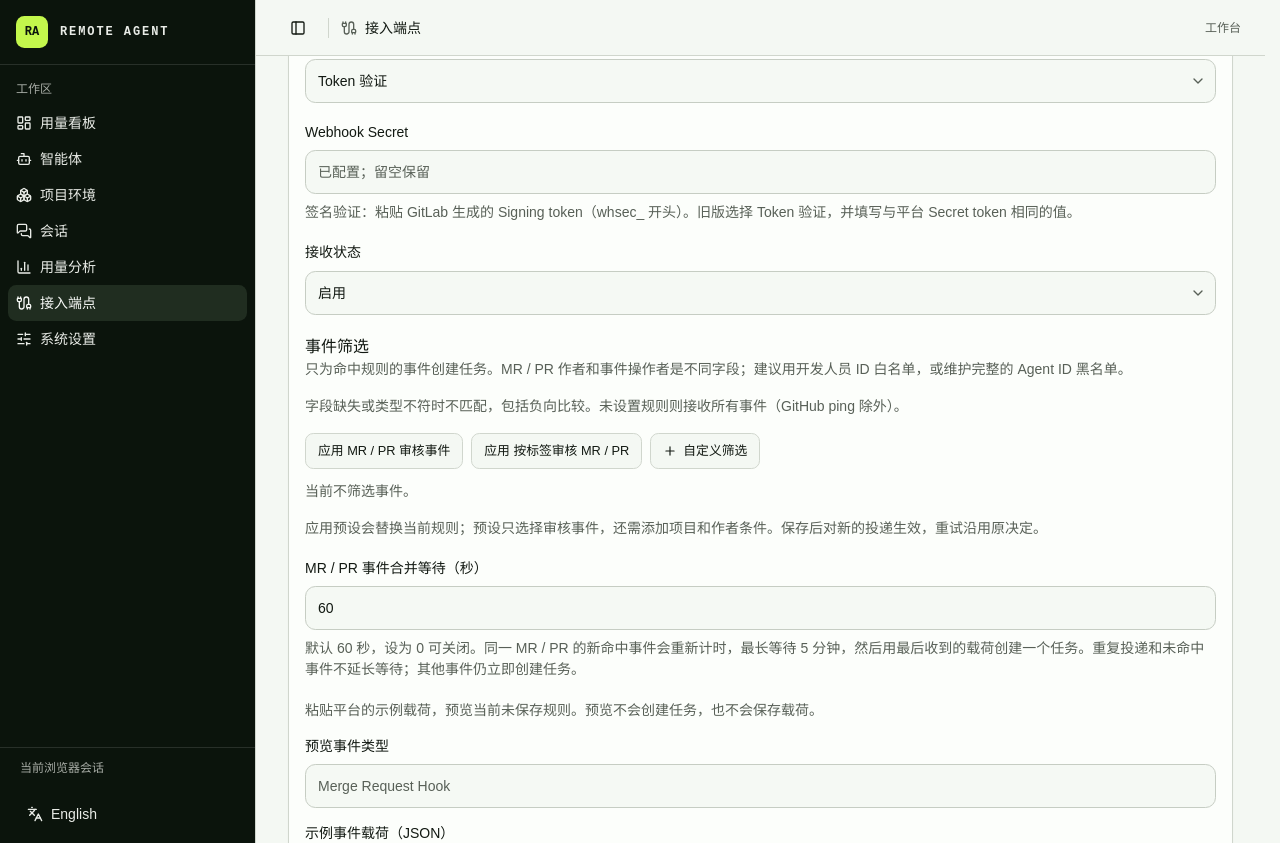
Test: gitlab 按标签审核预设可通过现有编辑器完整保存
(page scrolled)
Click the button "应用 按标签审核 MR / PR".
click(557, 451)  # box [471,433,642,469]
(page scrolled)
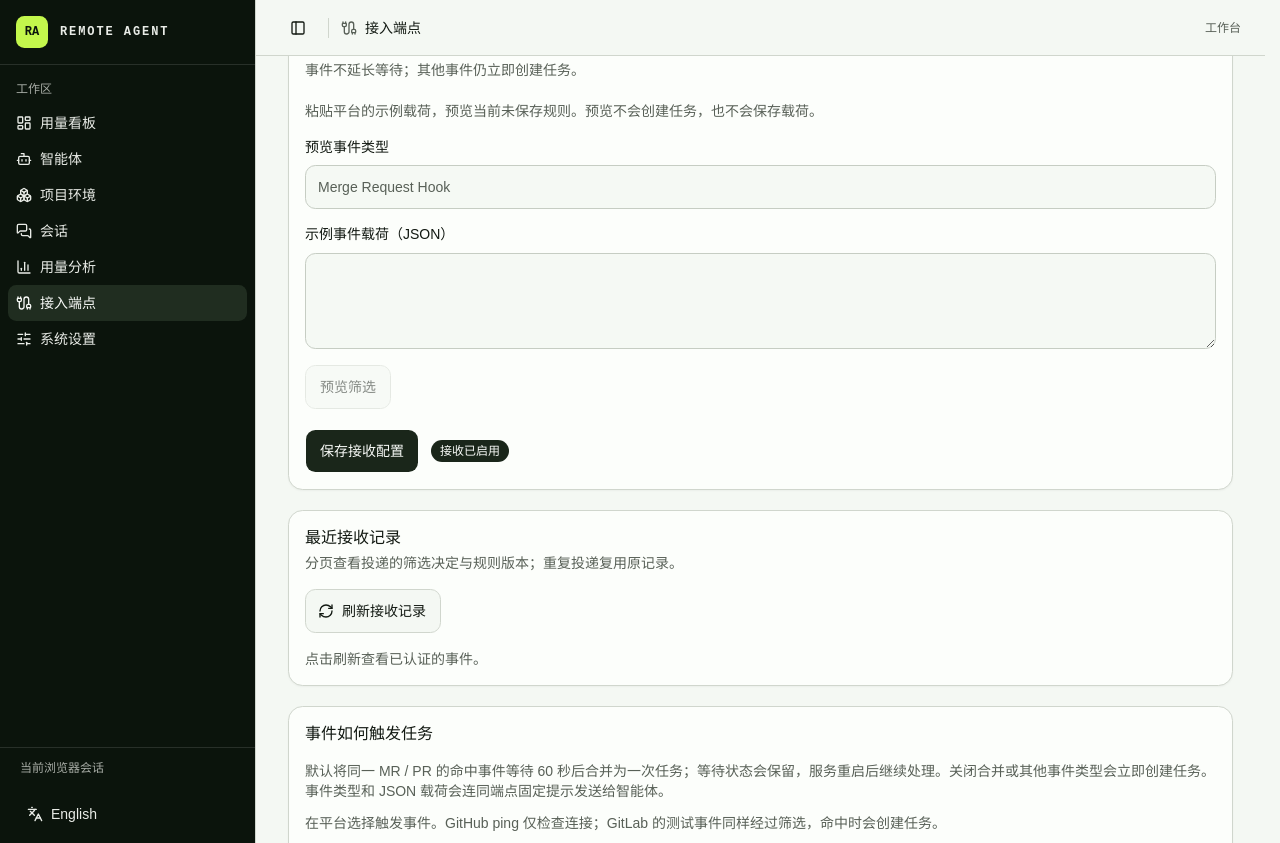
Click the button "保存接收配置".
click(362, 451)  # box [305,429,419,473]
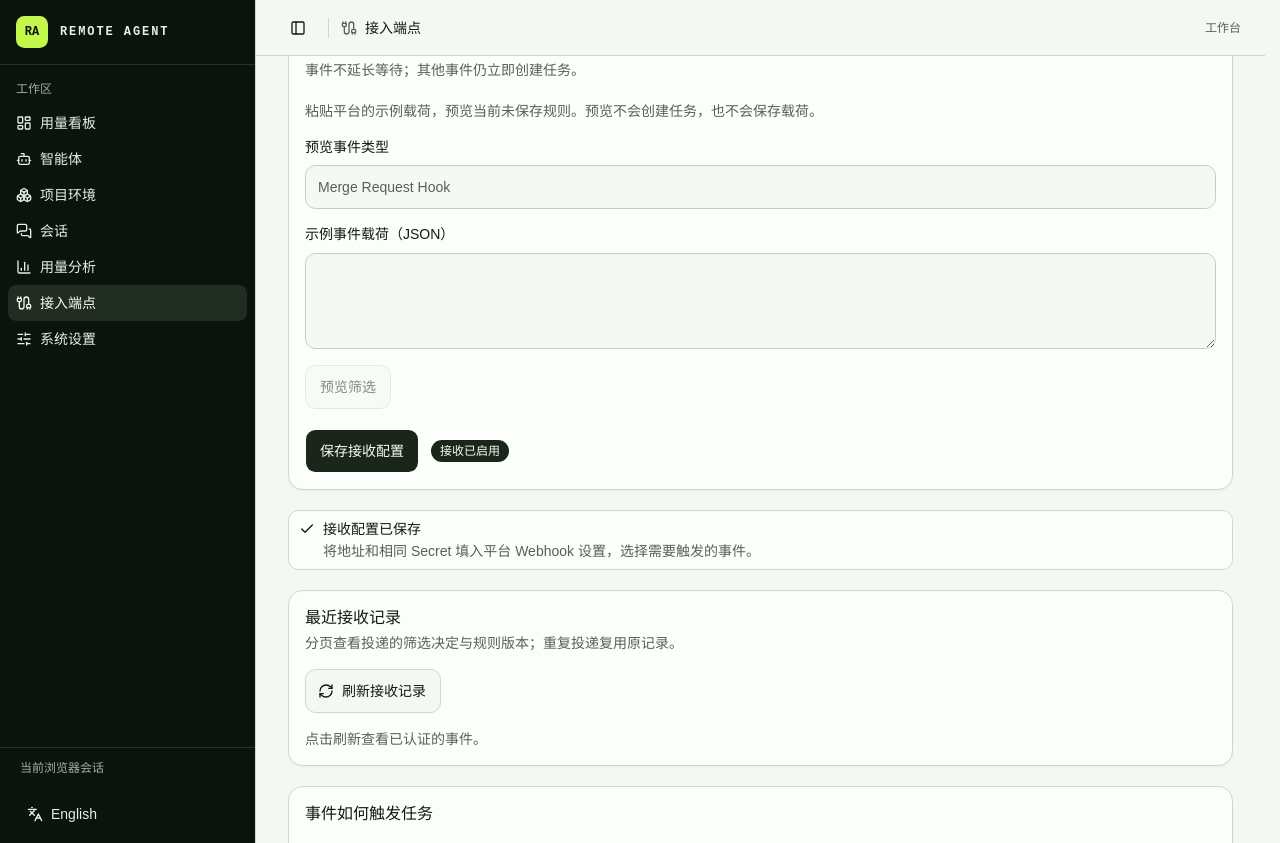
Expected: the text "接收配置已保存" is shown, [323,521,421,537]
